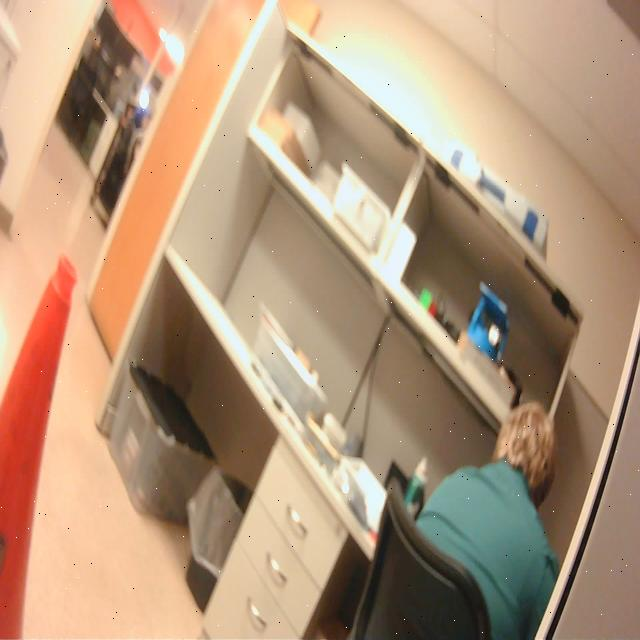traffic cone: (1, 248, 81, 640)
